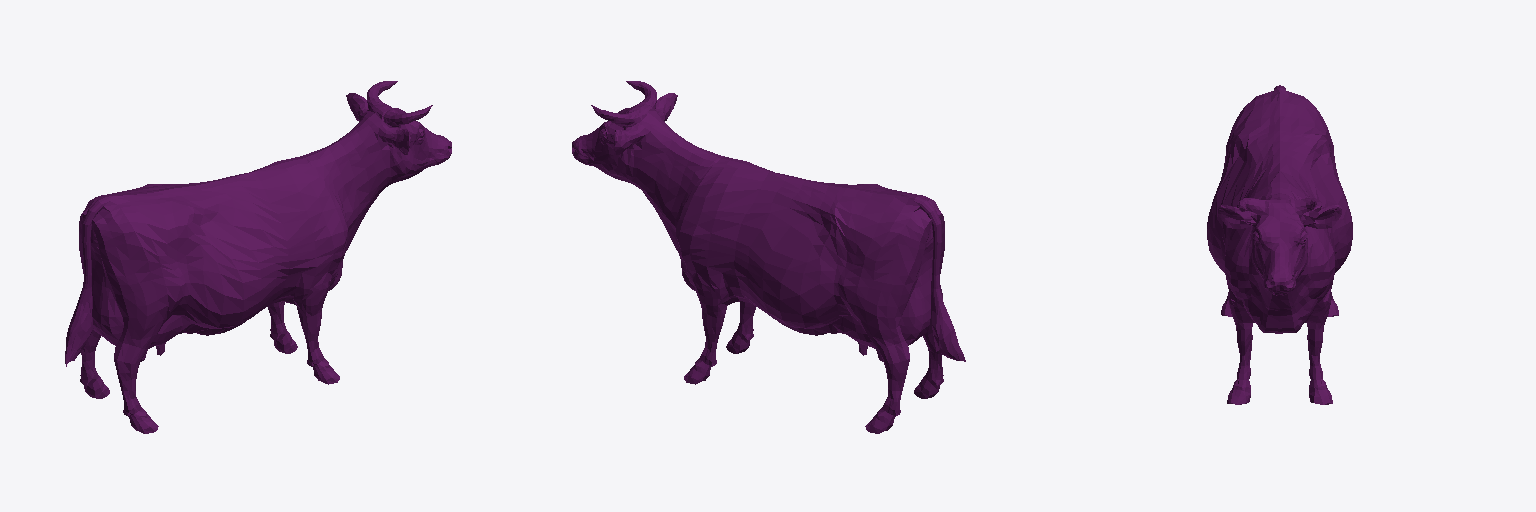
The model's file is cow.obj.
The picture shows the model from 3 angles: view 1: azimuth 30°, elevation 25°; view 2: azimuth 150°, elevation 25°; view 3: azimuth 270°, elevation 25°; orthographic projection.
Bounding box in the file's own units: 4.6 × 2.82 × 1.5.